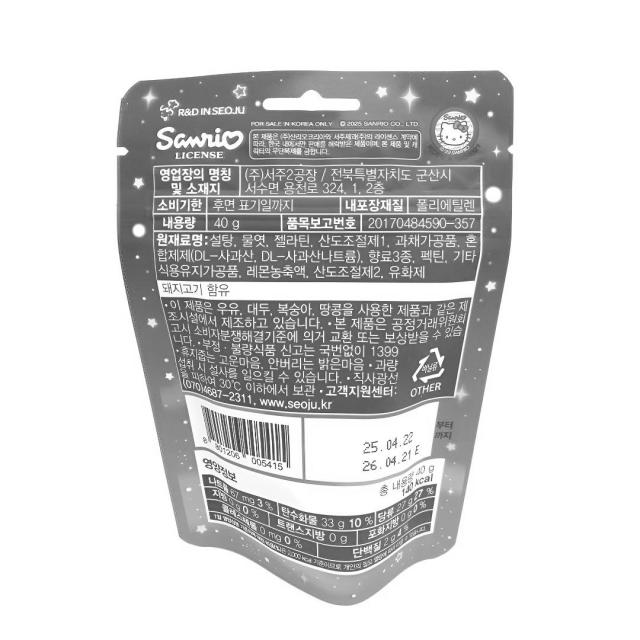Nutrition Label: (192, 448, 455, 578)
